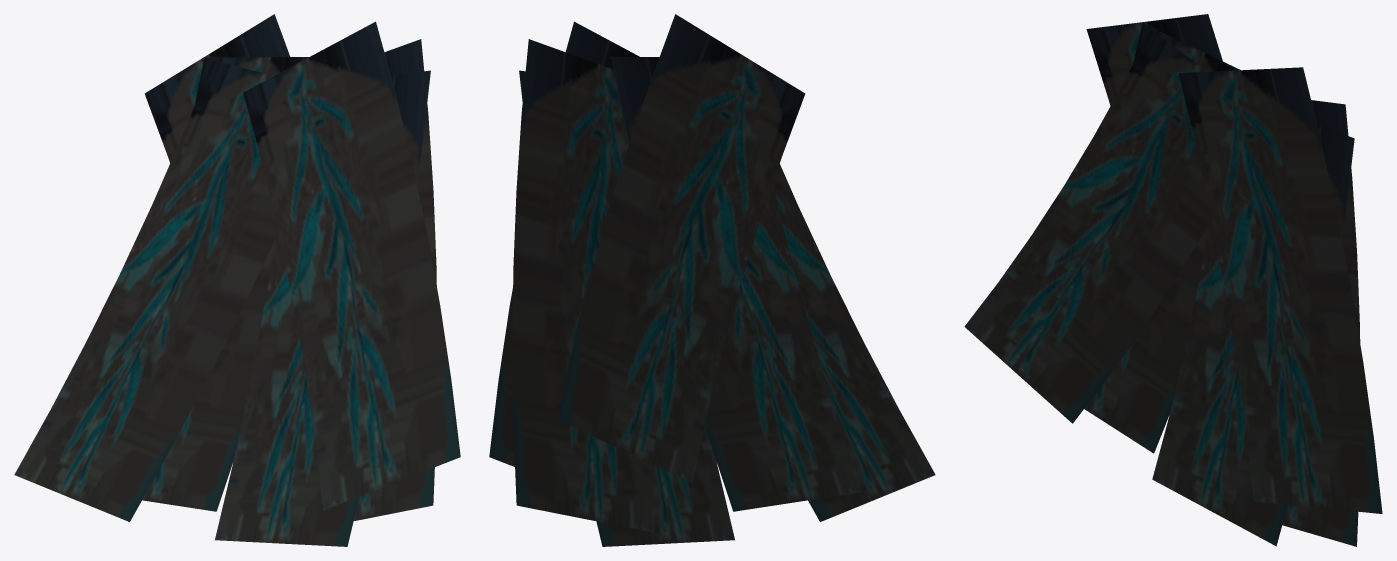
The model's file is Planta_PC_01.fbx.
3 views of the same model, side by side, from view 1: azimuth 30°, elevation 25°; view 2: azimuth 150°, elevation 25°; view 3: azimuth 330°, elevation 25° (orthographic). The views are drawn at different scales.
Visible parts, largest first — view 1: MASTER_Fulles_PC_01; view 2: MASTER_Fulles_PC_01; view 3: MASTER_Fulles_PC_01.
Part boxes in pixels (x1,y1,x2,y2): MASTER_Fulles_PC_01: (14,14,460,546); MASTER_Fulles_PC_01: (489,14,935,546); MASTER_Fulles_PC_01: (964,14,1382,546).
Size of the model in its own units: 5.12 by 6.04 by 4.1e-05.
